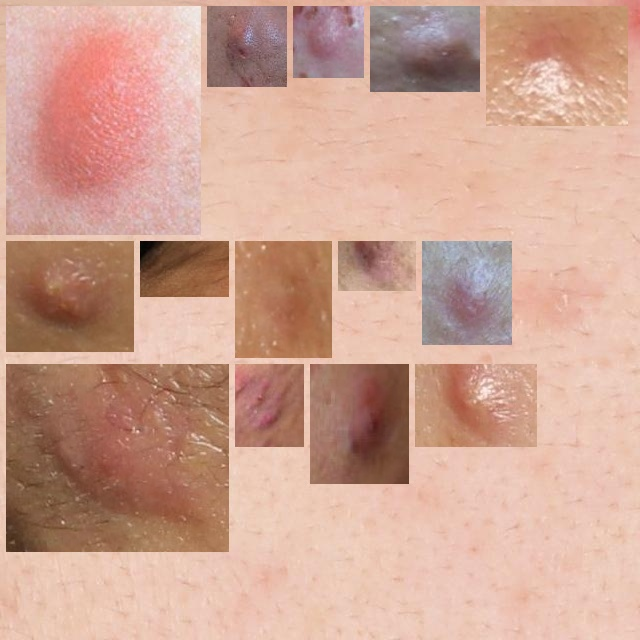nodule: (14, 14, 193, 227), (14, 372, 221, 544), (494, 14, 620, 118), (14, 249, 126, 344), (318, 372, 401, 476), (243, 249, 324, 350), (423, 372, 529, 439), (378, 14, 472, 84), (430, 249, 504, 337), (215, 14, 279, 79), (243, 372, 296, 439), (301, 14, 356, 70), (148, 249, 221, 289), (346, 241, 408, 283)
